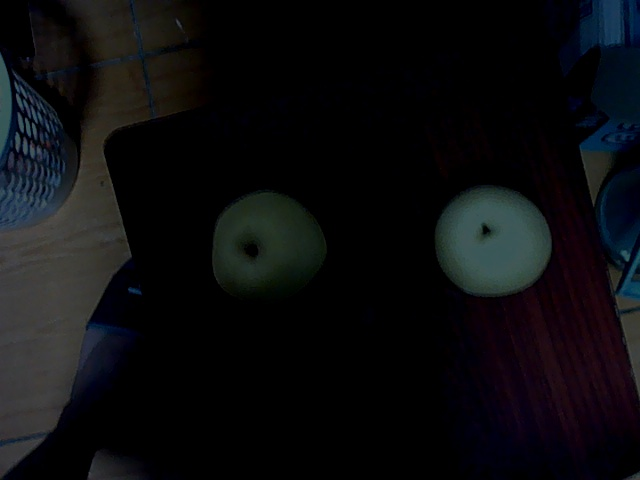pear: (211, 187, 329, 302), (435, 185, 550, 301)
